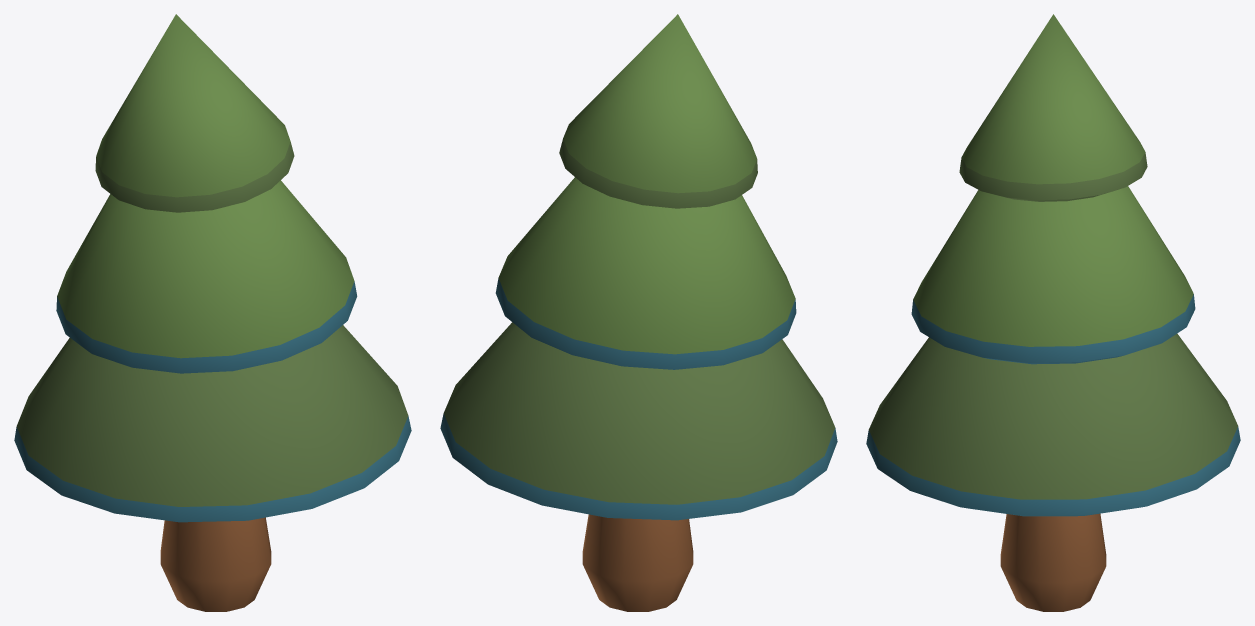
Rendered from itch_tiny_homely_house_tree_large.glb.
3 renders of one model, left to right at view 1: azimuth 30°, elevation 25°; view 2: azimuth 150°, elevation 25°; view 3: azimuth 270°, elevation 25°, orthographic. The views are drawn at different scales.
Visible parts, largest first — view 1: tree_large; view 2: tree_large; view 3: tree_large.
Boxes of the visible parts, <box> form: tree_large: <box>14,14,411,611</box>; tree_large: <box>440,14,837,611</box>; tree_large: <box>866,14,1240,611</box>.
Size of the model in its own units: 1.22 by 2.02 by 1.22.
